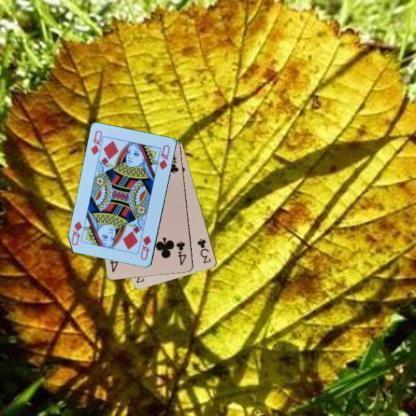3c: (194, 235, 212, 264)
4c: (174, 239, 188, 266)
Qd: (88, 128, 106, 159), (138, 233, 153, 261)
